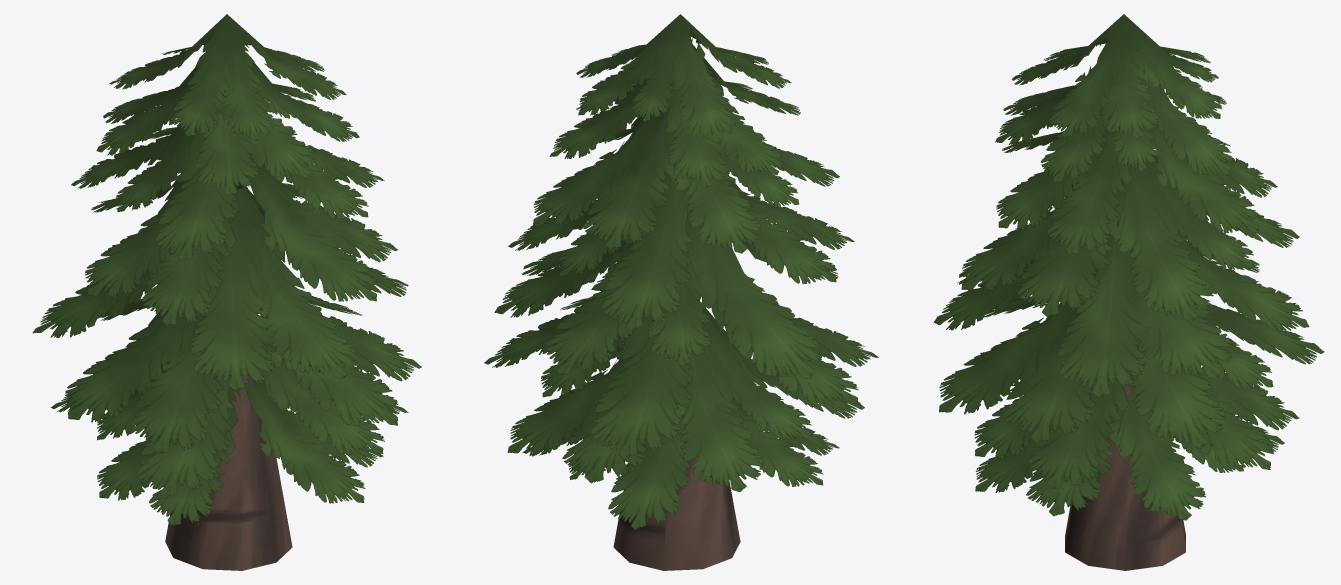
The model's file is pine-tree2.FBX.
The picture shows the model from 3 angles, left to right: view 1: azimuth 30°, elevation 25°; view 2: azimuth 150°, elevation 25°; view 3: azimuth 270°, elevation 25°; orthographic projection.
Parts seen in each view (by area): view 1: pine-tree2; view 2: pine-tree2; view 3: pine-tree2.
Part boxes in pixels (x1,y1,x2,y2): pine-tree2: (32,14,421,570); pine-tree2: (484,14,878,570); pine-tree2: (933,14,1324,570).
Bounding box in the file's own units: 2230 × 3060 × 2125.
